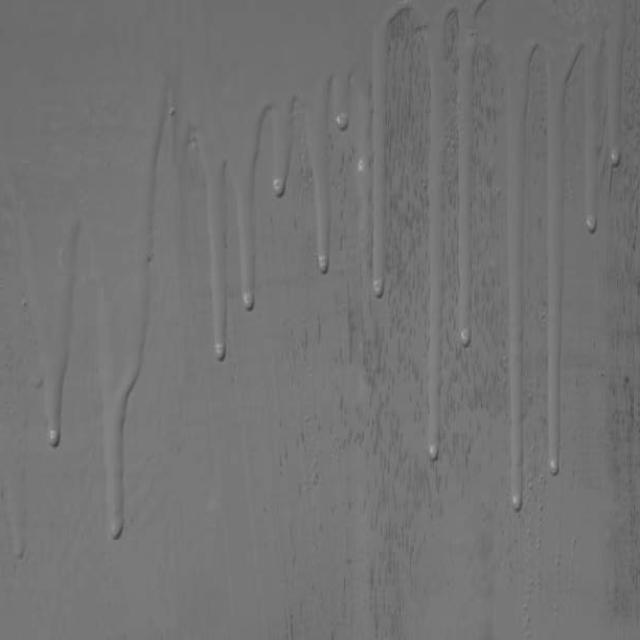paint drips: (414, 0, 628, 517), (171, 0, 414, 371), (0, 79, 170, 566)
